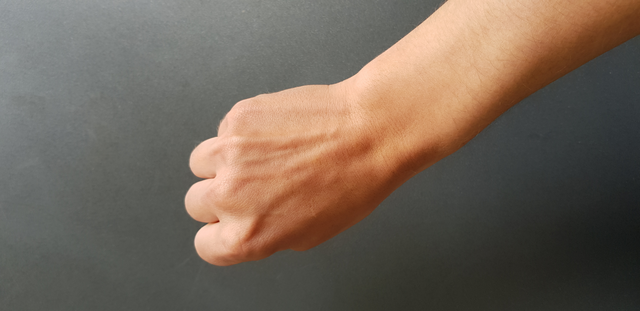Rock: (161, 83, 421, 269)
